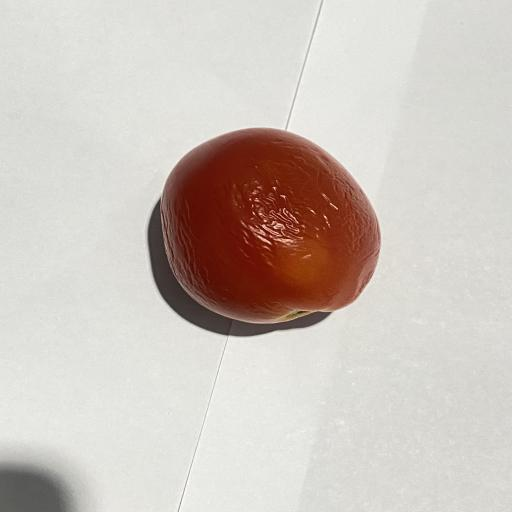spoiled: (161, 128, 380, 323)
